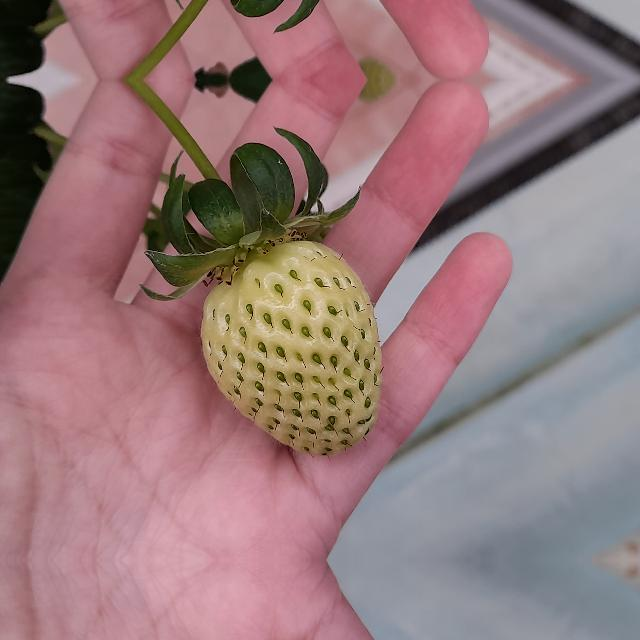Health_25: (200, 239, 382, 456)
